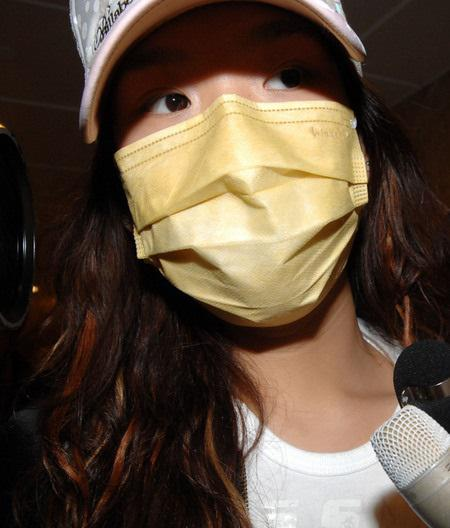OK: (114, 19, 368, 324)
